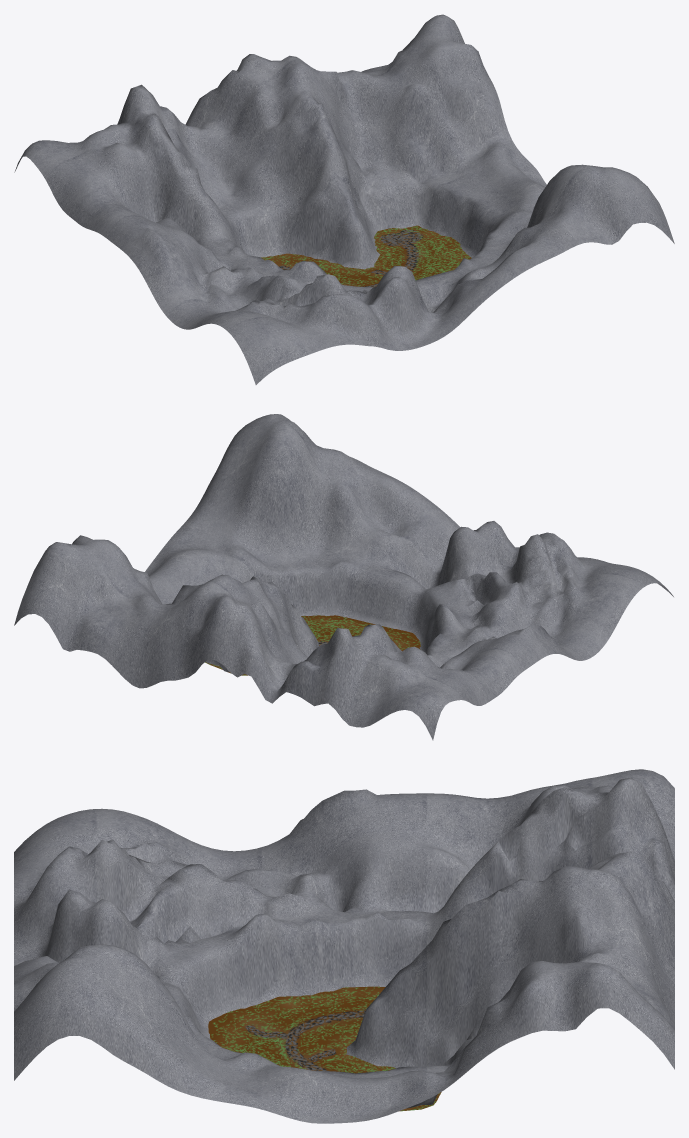
File: map1_3.obj
3 renders of one model, top to bottom at view 1: azimuth 30°, elevation 25°; view 2: azimuth 150°, elevation 25°; view 3: azimuth 270°, elevation 25°, orthographic. The views are drawn at different scales.
Visible parts, largest first — view 1: pPlane3, pPlane2; view 2: pPlane3, pPlane2; view 3: pPlane3, pPlane2.
Boxes of the visible parts, bbox=[...] form: pPlane3: bbox=[14, 14, 674, 384]; pPlane2: bbox=[261, 225, 471, 287]; pPlane3: bbox=[14, 414, 673, 740]; pPlane2: bbox=[205, 615, 420, 675]; pPlane3: bbox=[14, 769, 674, 1123]; pPlane2: bbox=[208, 986, 441, 1111].
Size of the model in its own units: 114 by 37.46 by 114.
Materials: 2 (2 with a texture image).
